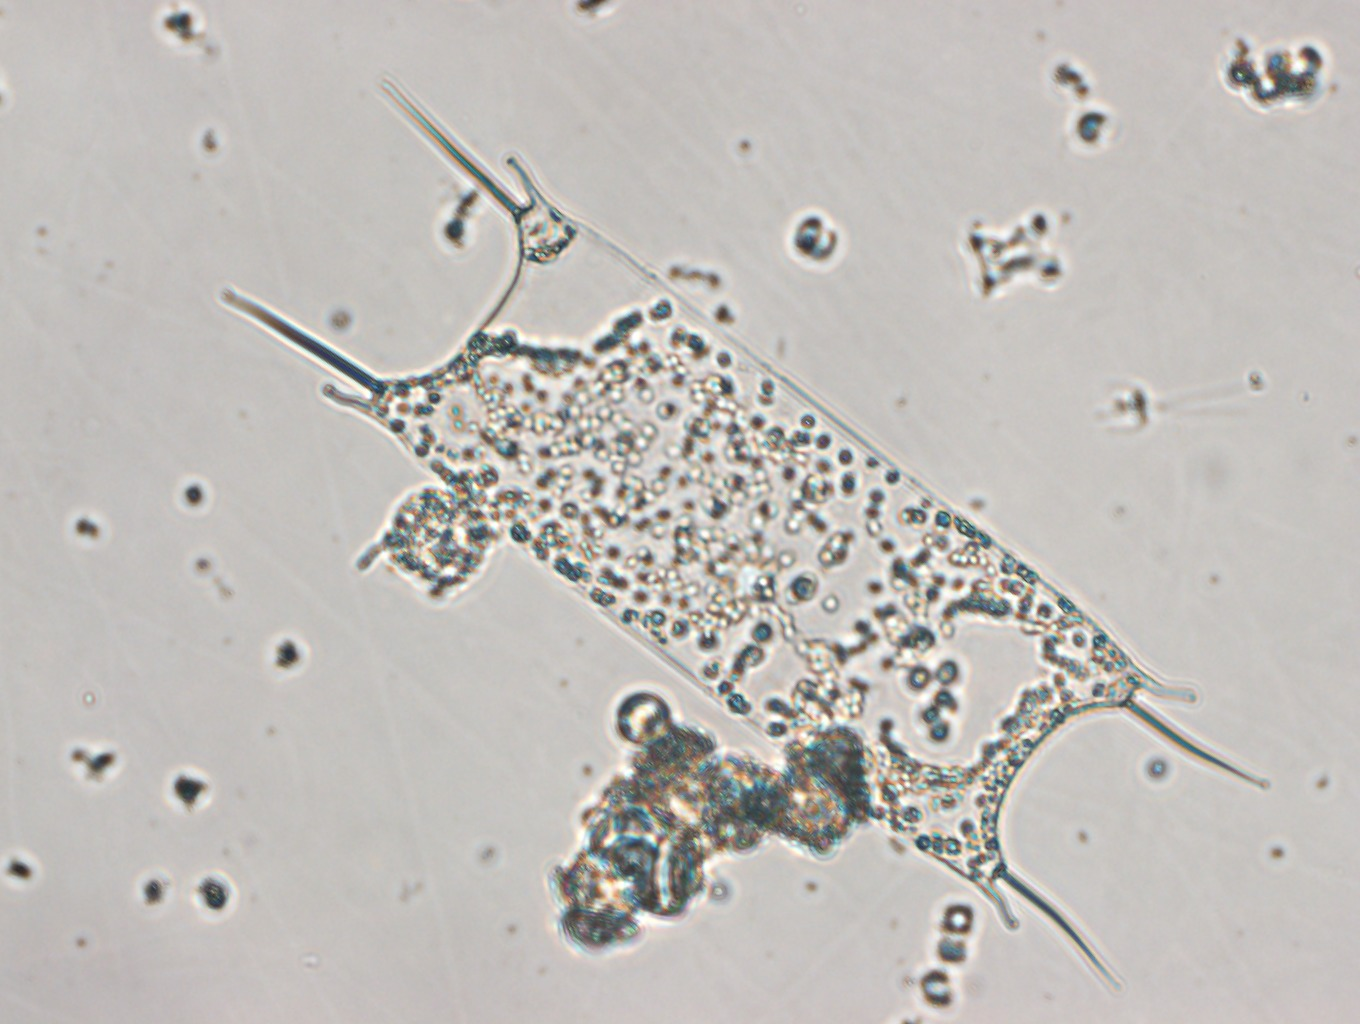biddulphia: (216, 75, 1269, 985)
